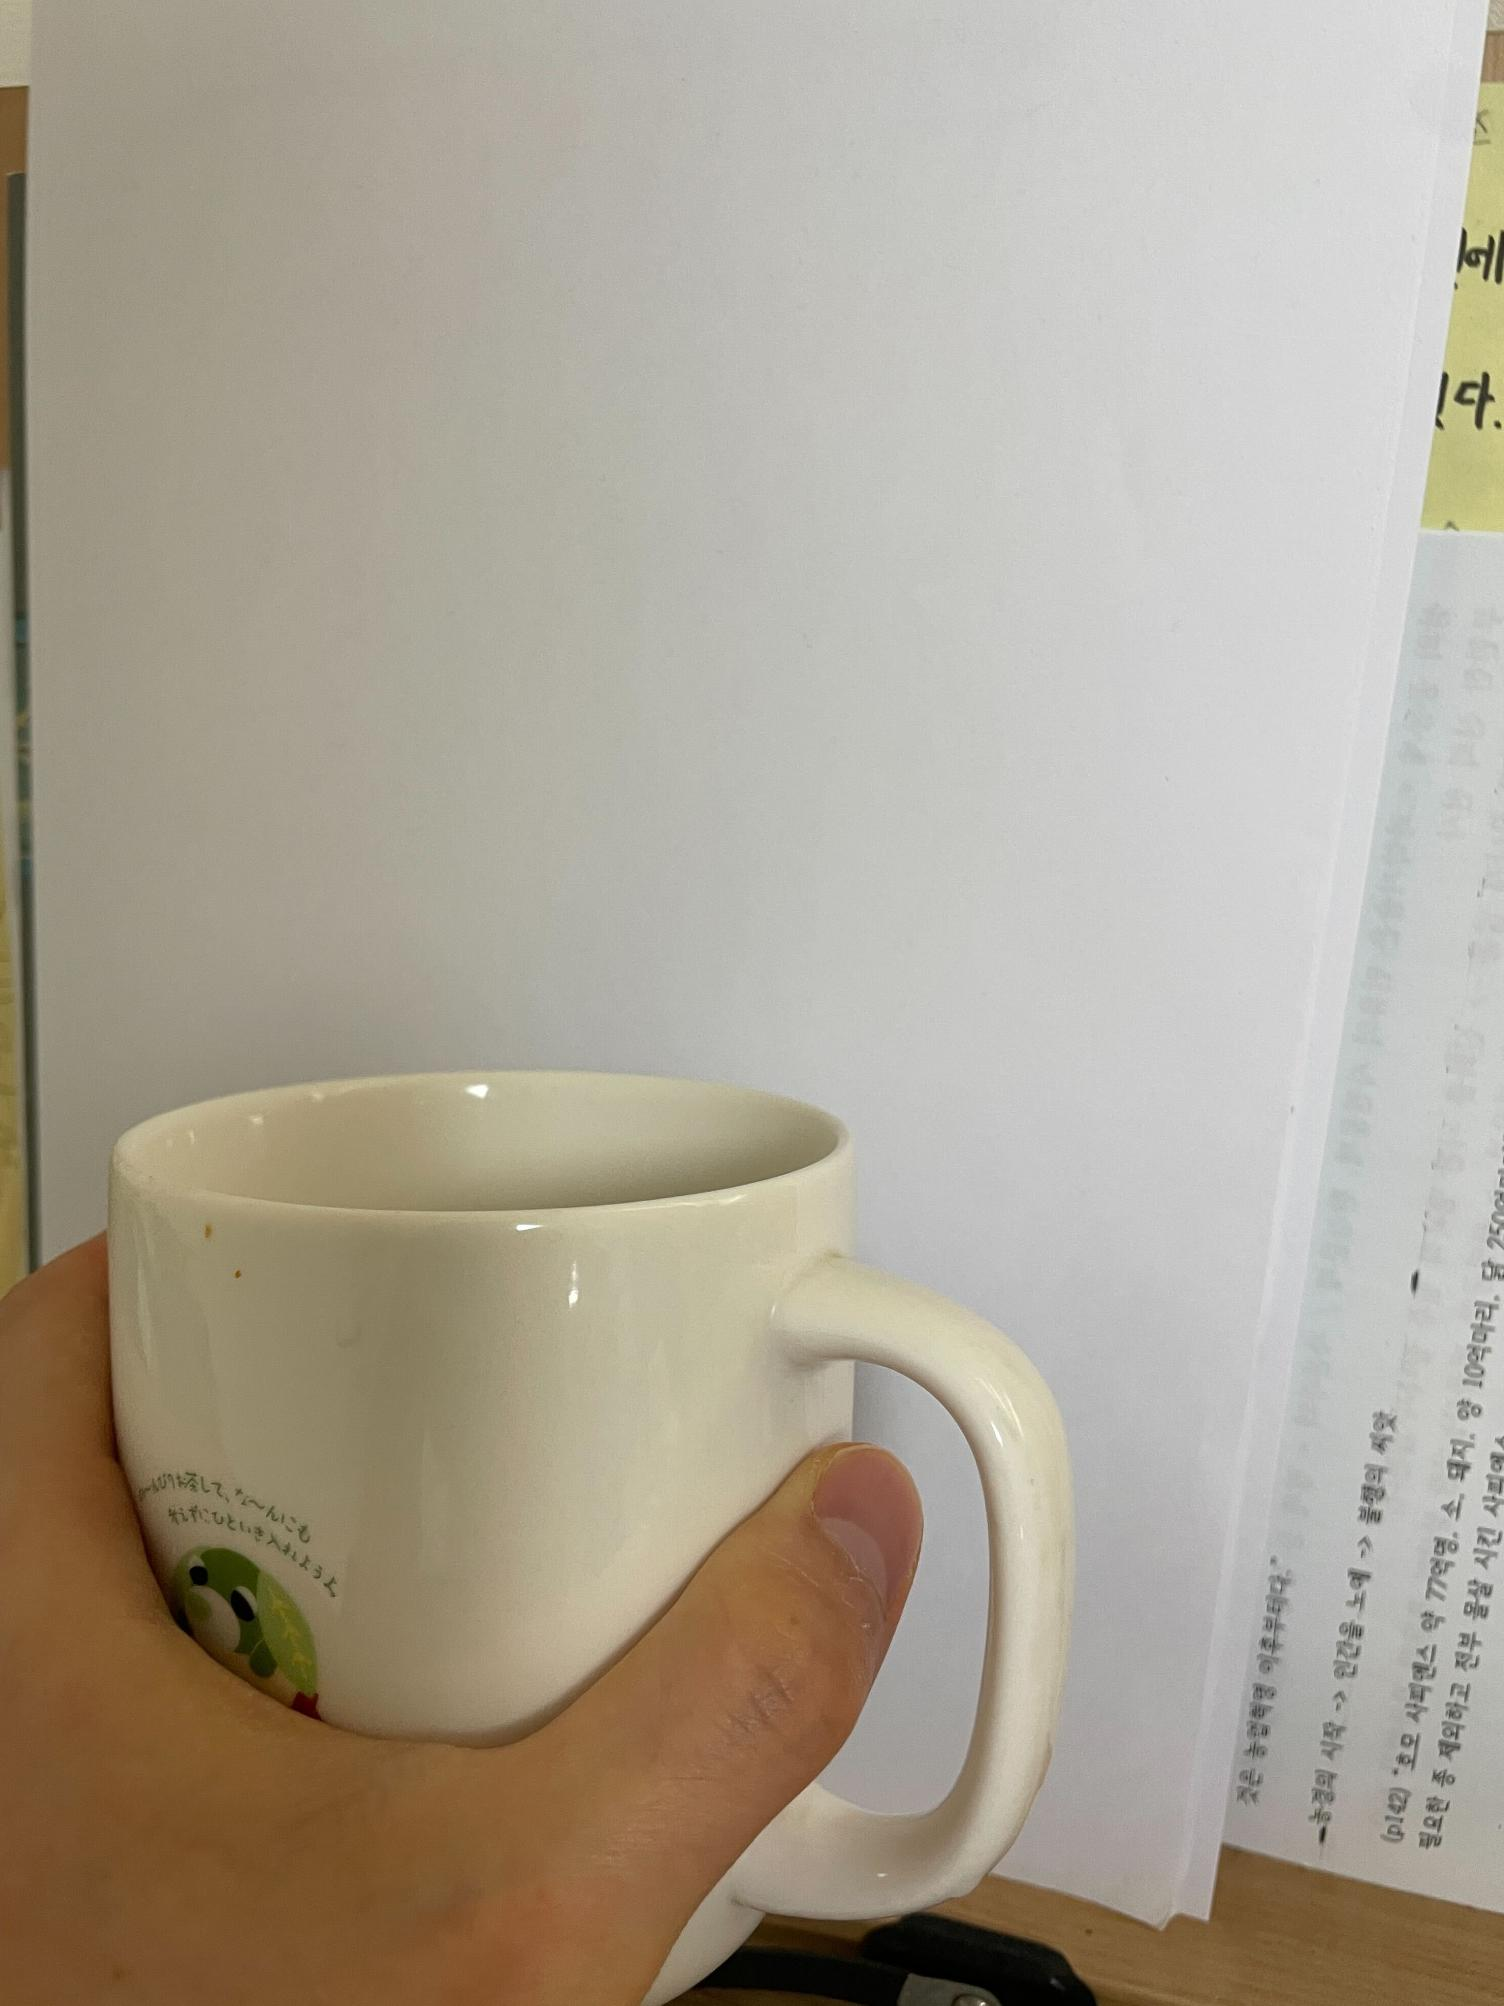cup: (0, 1067, 1081, 2006)
